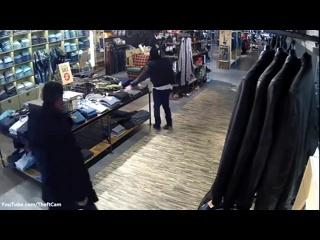Normal: (26, 80, 100, 209), (124, 46, 174, 131)
